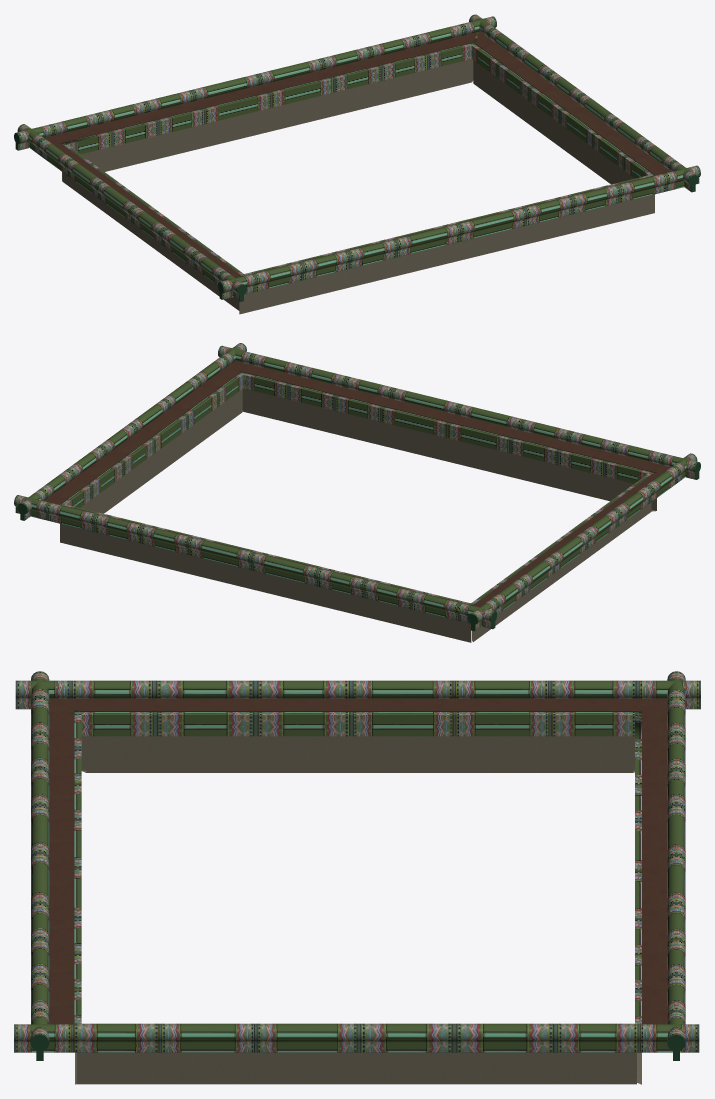
File: SM_Geumsan_Mi_Dori_B.fbx
3 renders of one model, top to bottom at view 1: azimuth 30°, elevation 25°; view 2: azimuth 150°, elevation 25°; view 3: azimuth 270°, elevation 25°, orthographic. The views are drawn at different scales.
Parts seen in each view (by area): view 1: SM_Geumsan_Mi_Dori_B; view 2: SM_Geumsan_Mi_Dori_B; view 3: SM_Geumsan_Mi_Dori_B.
Part boxes in pixels (x1,y1,x2,y2): SM_Geumsan_Mi_Dori_B: (14, 14, 700, 314); SM_Geumsan_Mi_Dori_B: (14, 343, 700, 642); SM_Geumsan_Mi_Dori_B: (14, 671, 700, 1084).
Bounding box in the file's own units: 1685 × 161 × 1346.
